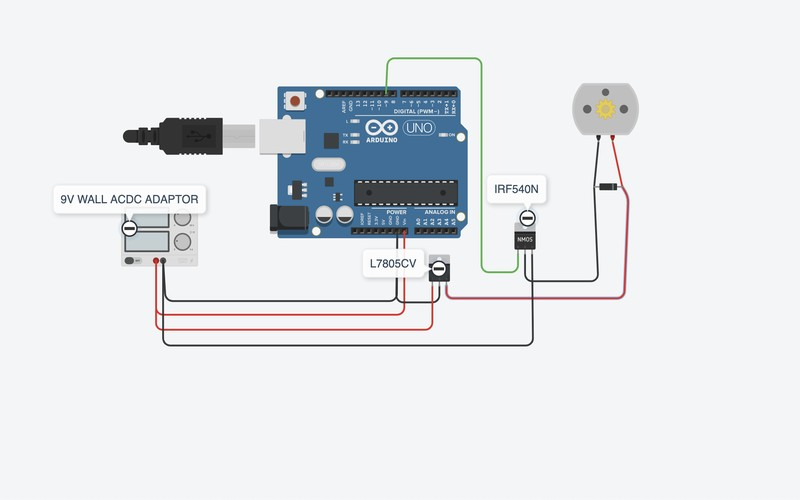Regulator: (51, 34, 660, 381)
